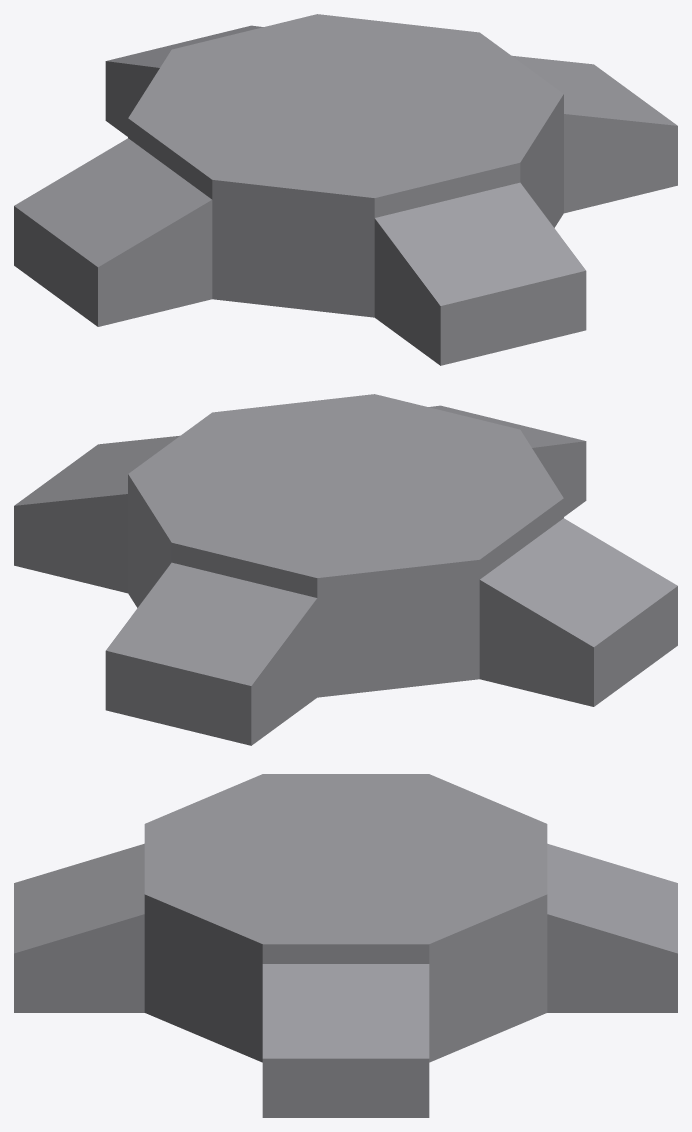
File: model_turret_01_base.gltf
3 renders of one model, top to bottom at view 1: azimuth 30°, elevation 25°; view 2: azimuth 150°, elevation 25°; view 3: azimuth 270°, elevation 25°, orthographic.
Parts seen in each view (by area): view 1: model_turret_01_base; view 2: model_turret_01_base; view 3: model_turret_01_base.
Boxes of the visible parts, x1,y1,x2,y2 form: model_turret_01_base: (14, 14, 677, 365); model_turret_01_base: (14, 394, 677, 745); model_turret_01_base: (14, 774, 677, 1117).
Bounding box in the file's own units: 0.7619 × 0.15 × 0.7619.
Materials: 1 (1 with a texture image).
